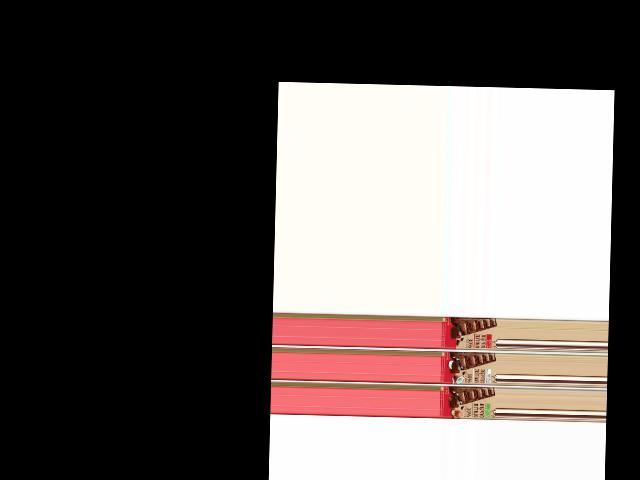chocolate: (438, 386, 495, 421)
